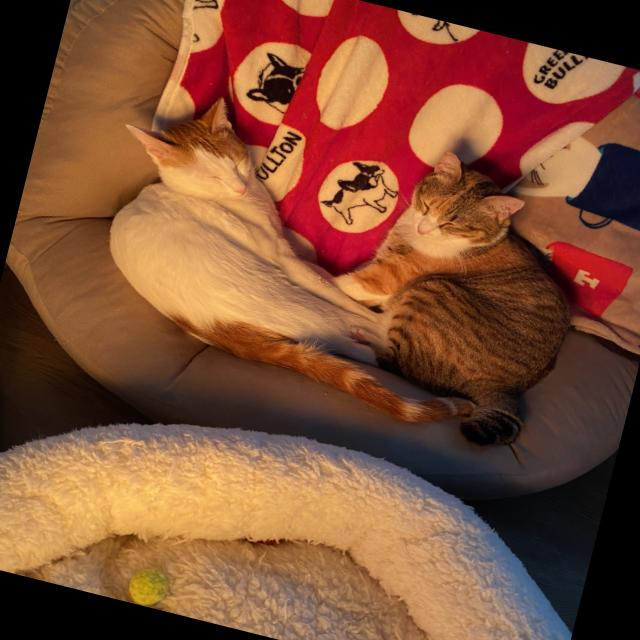cat1: (70, 71, 423, 412)
cat2: (309, 128, 613, 462)
